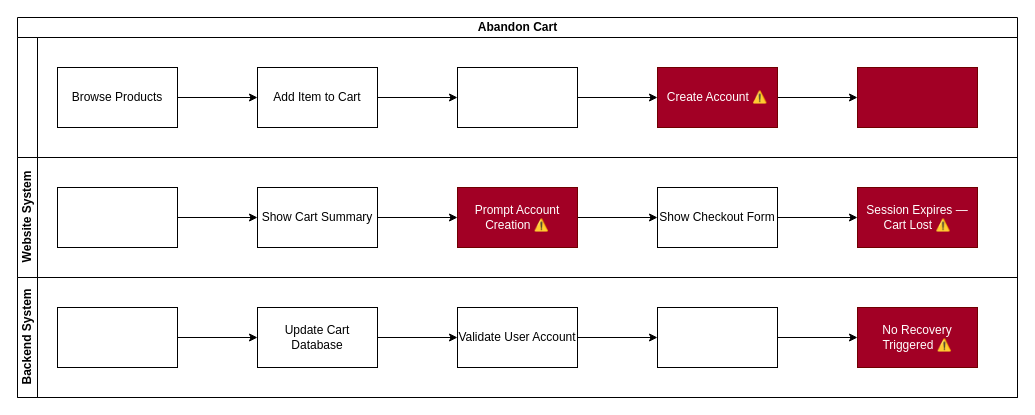
Image size: 1035x415. Some labels were removed from this diagram. Each missing label, with the box of its shape:
Abandon Cart ⚠️: (856, 66, 978, 128)
Begin Checkout: (456, 66, 578, 128)
Customer: (16, 36, 1018, 158)
Display Product Pages: (56, 186, 178, 248)
Load Product Catalogue: (56, 306, 178, 368)
Process Payment Request: (656, 306, 778, 368)
